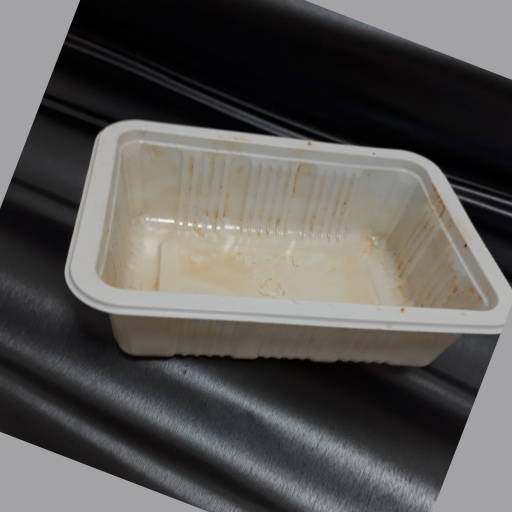Plastic_4: (61, 115, 512, 367)
